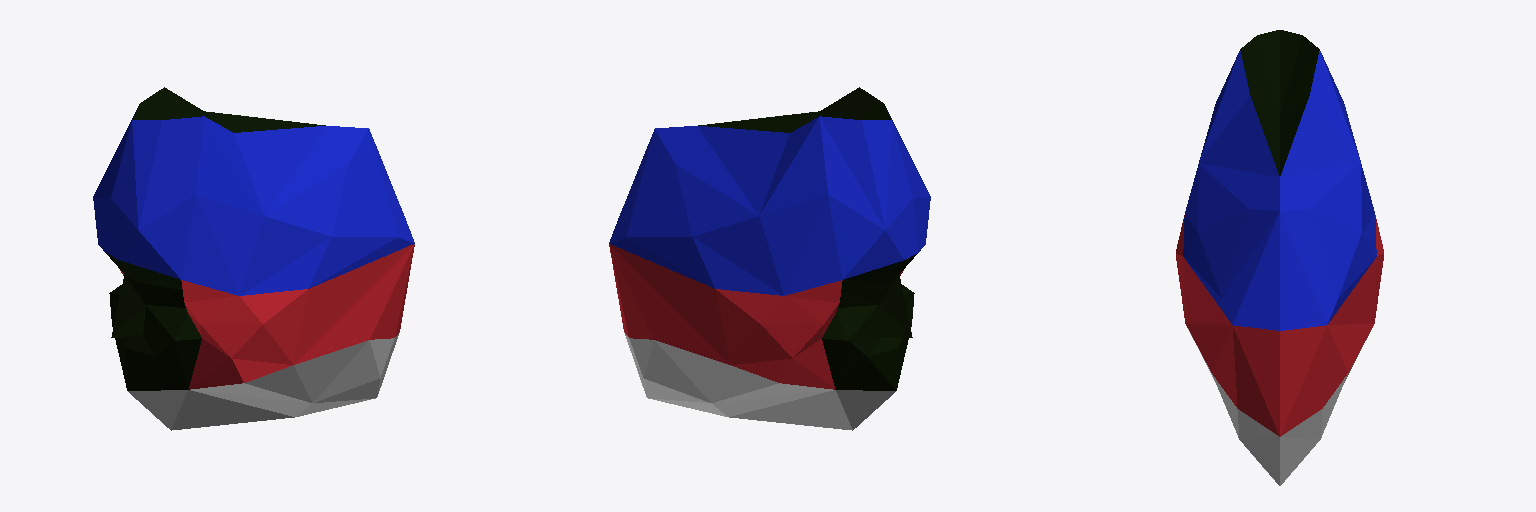
Rendered from rhodium_head.obj.
3 views of the same model, side by side, from view 1: azimuth 30°, elevation 25°; view 2: azimuth 150°, elevation 25°; view 3: azimuth 270°, elevation 25° (orthographic).
Visible parts, largest first — view 1: RhodiumHead; view 2: RhodiumHead; view 3: RhodiumHead.
Part boxes in pixels (bbox=[...]): RhodiumHead: bbox=[93, 87, 414, 430]; RhodiumHead: bbox=[609, 87, 930, 430]; RhodiumHead: bbox=[1176, 30, 1383, 485].
Size of the model in its own units: 1.85 by 2.02 by 1.11.